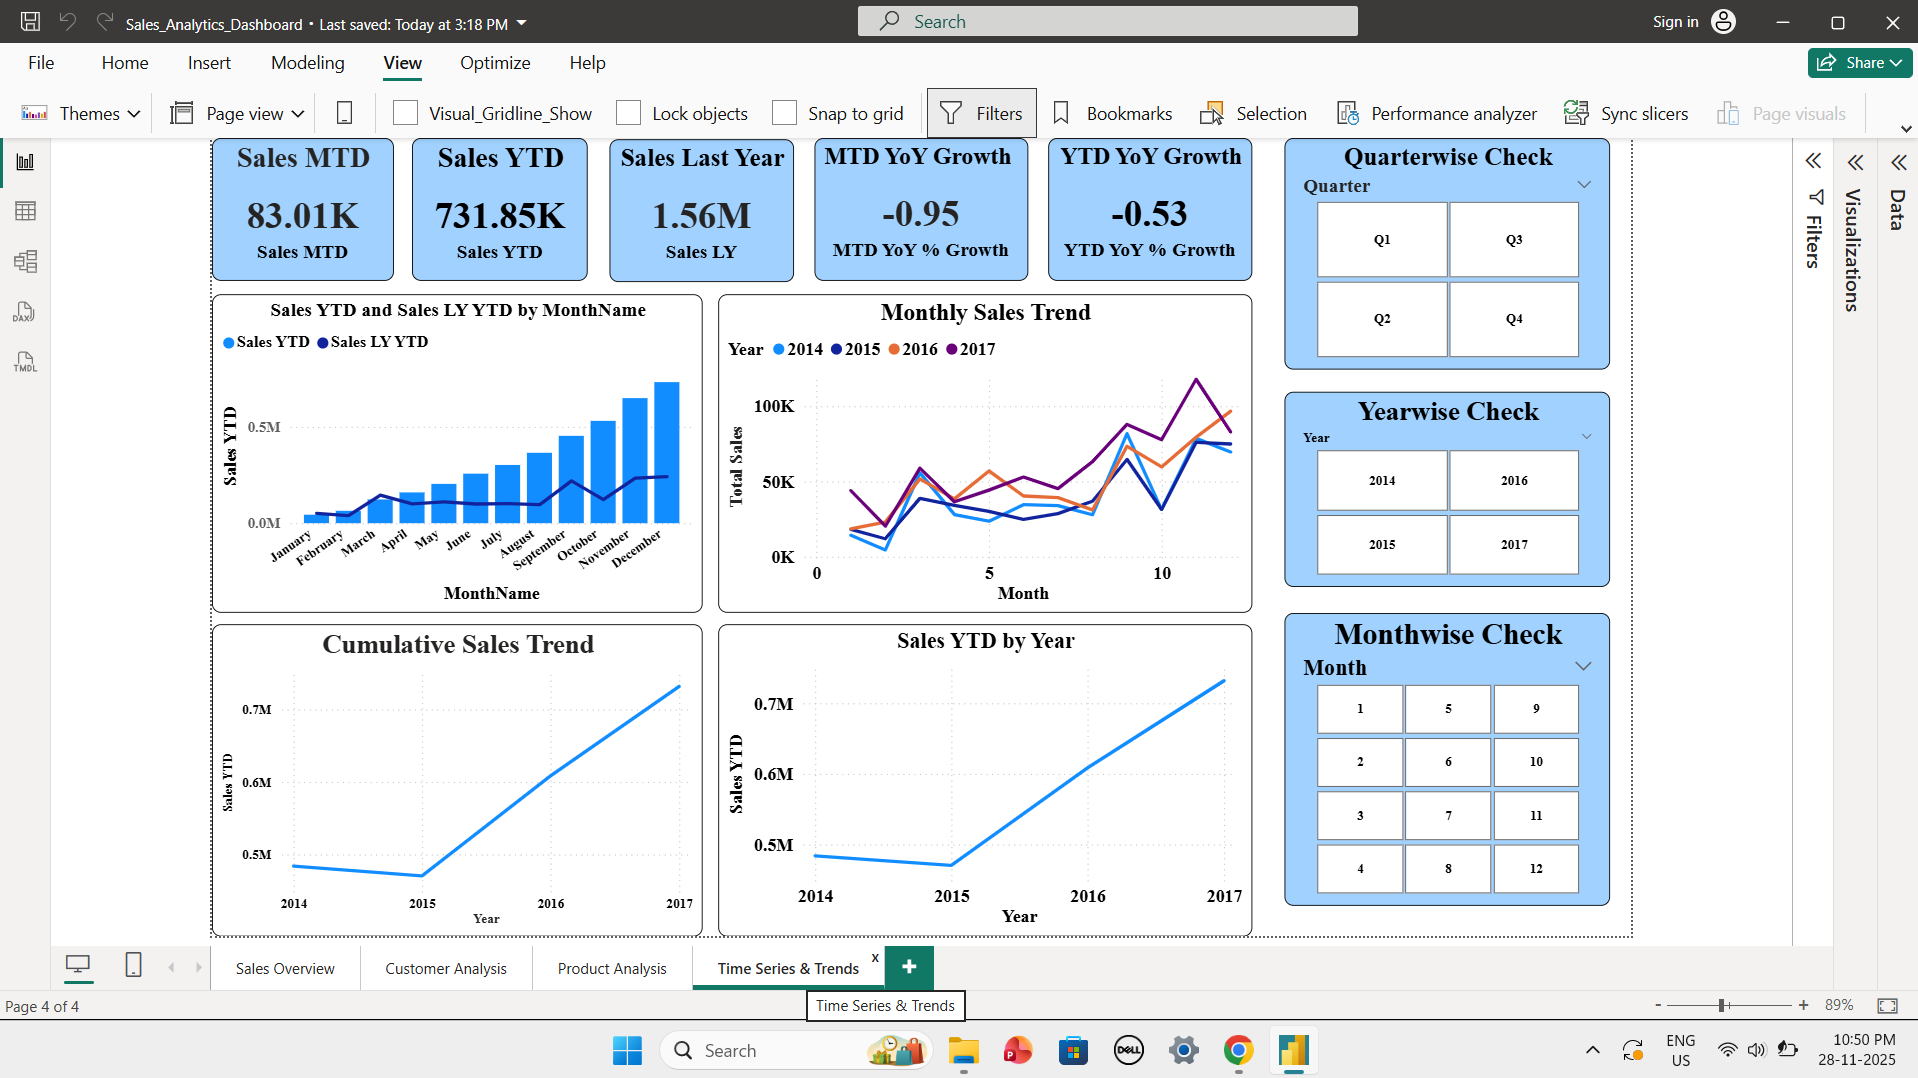

Layout of this report page (visuals, bound fields, positions):
{"tool":"powerbi","page":{"name":"Time Series & Trends","canvas":[1280,720],"ordinal":3},"visuals":[{"type":"card","title":"Sales MTD","fields":{"Values":["_Measures.Sales MTD"]},"box":[0,0,163.8,128.8],"z":0},{"type":"card","title":"Sales YTD","fields":{"Values":["_Measures.Sales YTD"]},"box":[180,0,158.8,128.8],"z":1000},{"type":"card","title":"Sales Last Year","fields":{"Values":["_Measures.Sales LY"]},"box":[358.8,1.2,166.2,128.8],"z":2000},{"type":"card","title":"MTD YoY Growth","fields":{"Values":["_Measures.MTD YoY % Growth"]},"box":[543.8,0,192.5,128.8],"z":3000},{"type":"card","title":"YTD YoY Growth","fields":{"Values":["_Measures.YTD YoY % Growth"]},"box":[753.8,0,183.8,128.8],"z":4000},{"type":"lineChart","title":"Monthly Sales Trend","fields":{"Category":["DimDate.Month"],"Y":["_Measures.Total Sales"],"Series":["DimDate.Year"]},"box":[456.2,141.2,481.2,287.5],"z":5000},{"type":"lineClusteredColumnComboChart","fields":{"Category":["DimDate.MonthName"],"Y2":["_Measures.Sales LY YTD"],"Y":["_Measures.Sales YTD"]},"box":[0,141.2,442.5,287.5],"z":6000},{"type":"lineChart","fields":{"Category":["DimDate.Date.Variation.Date Hierarchy.Year","DimDate.Date.Variation.Date Hierarchy.Quarter","DimDate.Date.Variation.Date Hierarchy.Month","DimDate.Date.Variation.Date Hierarchy.Day"],"Y":["_Measures.Sales YTD"]},"box":[456.2,438.8,481.2,281.2],"z":7000},{"type":"lineChart","title":"Cumulative Sales Trend","fields":{"Category":["DimDate.Date.Variation.Date Hierarchy.Year","DimDate.Date.Variation.Date Hierarchy.Quarter","DimDate.Date.Variation.Date Hierarchy.Month","DimDate.Date.Variation.Date Hierarchy.Day"],"Y":["_Measures.Sales YTD"]},"box":[0,438.8,442.5,281.2],"z":8000},{"type":"slicer","title":"Quarterwise Check","fields":{"Values":["DimDate.Quarter"]},"box":[967.5,0,293.8,208.8],"z":9000},{"type":"slicer","title":"Yearwise Check","fields":{"Values":["DimDate.Year"]},"box":[967.5,228.8,293.8,176.2],"z":10000},{"type":"slicer","title":"Monthwise Check","fields":{"Values":["DimDate.Month"]},"box":[967.5,428.8,293.8,263.8],"z":11000}]}

Visuals, with their boxes on the page's 1280x720 design canvas (x1, y1, x2, y2). These are canvas units, not pixel positions in the 1918x1078 screenshot, which may show the page scaled, cropped or inside an application window:
"Sales MTD" card: Rect(0, 0, 164, 129)
"Sales YTD" card: Rect(180, 0, 339, 129)
"Sales Last Year" card: Rect(359, 1, 525, 130)
"MTD YoY Growth" card: Rect(544, 0, 736, 129)
"YTD YoY Growth" card: Rect(754, 0, 938, 129)
"Monthly Sales Trend" lineChart: Rect(456, 141, 937, 429)
lineClusteredColumnComboChart - DimDate.MonthName x _Measures.Sales LY YTD: Rect(0, 141, 442, 429)
lineChart - DimDate.Date.Variation.Date Hierarchy.Year x DimDate.Date.Variation.Date Hierarchy.Quarter: Rect(456, 439, 937, 720)
"Cumulative Sales Trend" lineChart: Rect(0, 439, 442, 720)
"Quarterwise Check" slicer: Rect(968, 0, 1261, 209)
"Yearwise Check" slicer: Rect(968, 229, 1261, 405)
"Monthwise Check" slicer: Rect(968, 429, 1261, 693)
